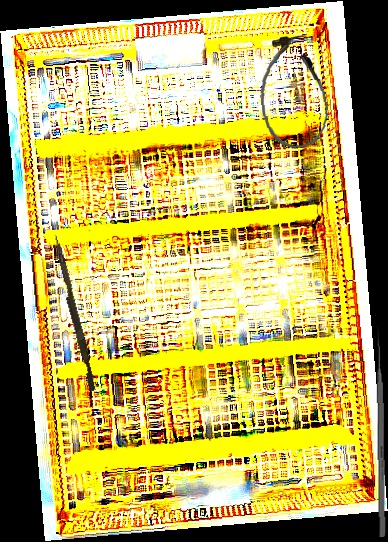Cannula: (255, 32, 332, 152)
Pusher: (48, 234, 100, 392), (375, 325, 386, 538)
